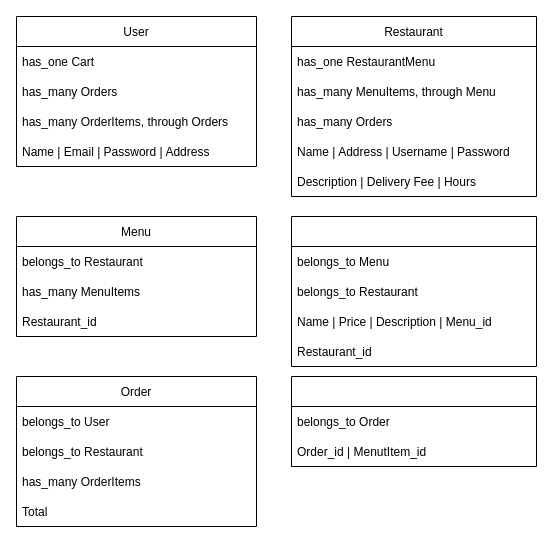
This 553x543 diagram has some shape labels left out. The box of each missing label's shape, as (x1, y1, x2, y2) in pixels:
MenuItem: (290, 216, 536, 366)
OrderItems: (290, 376, 536, 466)
